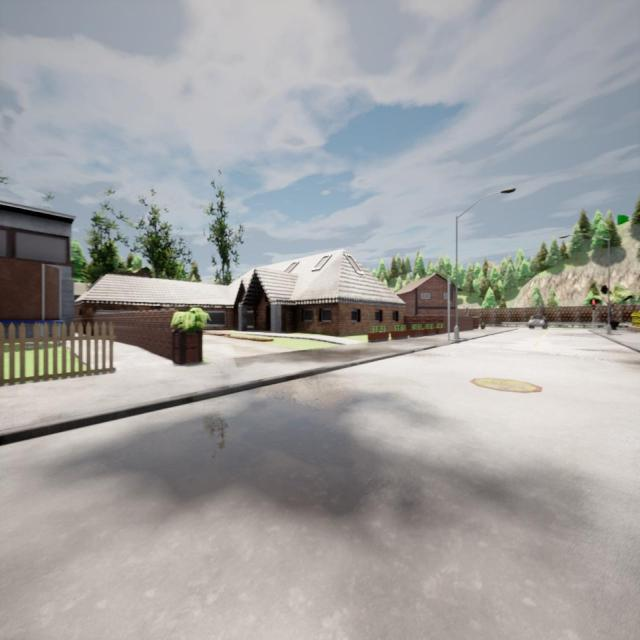Vehicle: (528, 315, 547, 329)
traffic_light: (448, 282, 452, 300), (592, 301, 596, 309), (466, 308, 468, 312)
